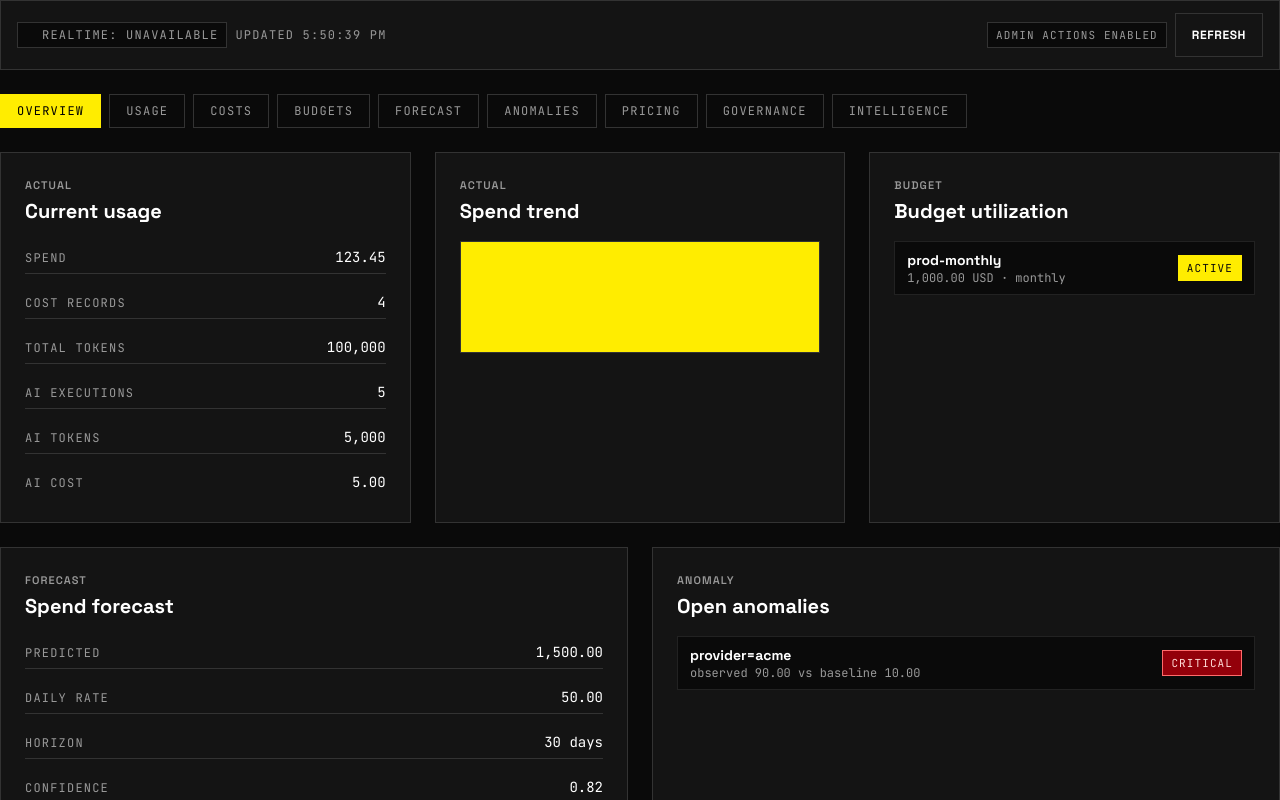
it: FinopsWorkspace (C1) › shows admin actions with billing:admin and labels forecast data
Expected: the text "Admin actions enabled" is shown, [987,22,1167,48]
What coordinates should you click on to do the following:
click the tab "Budgets"
I would click on:
 (324, 111)
Its box is [277,94,370,128].
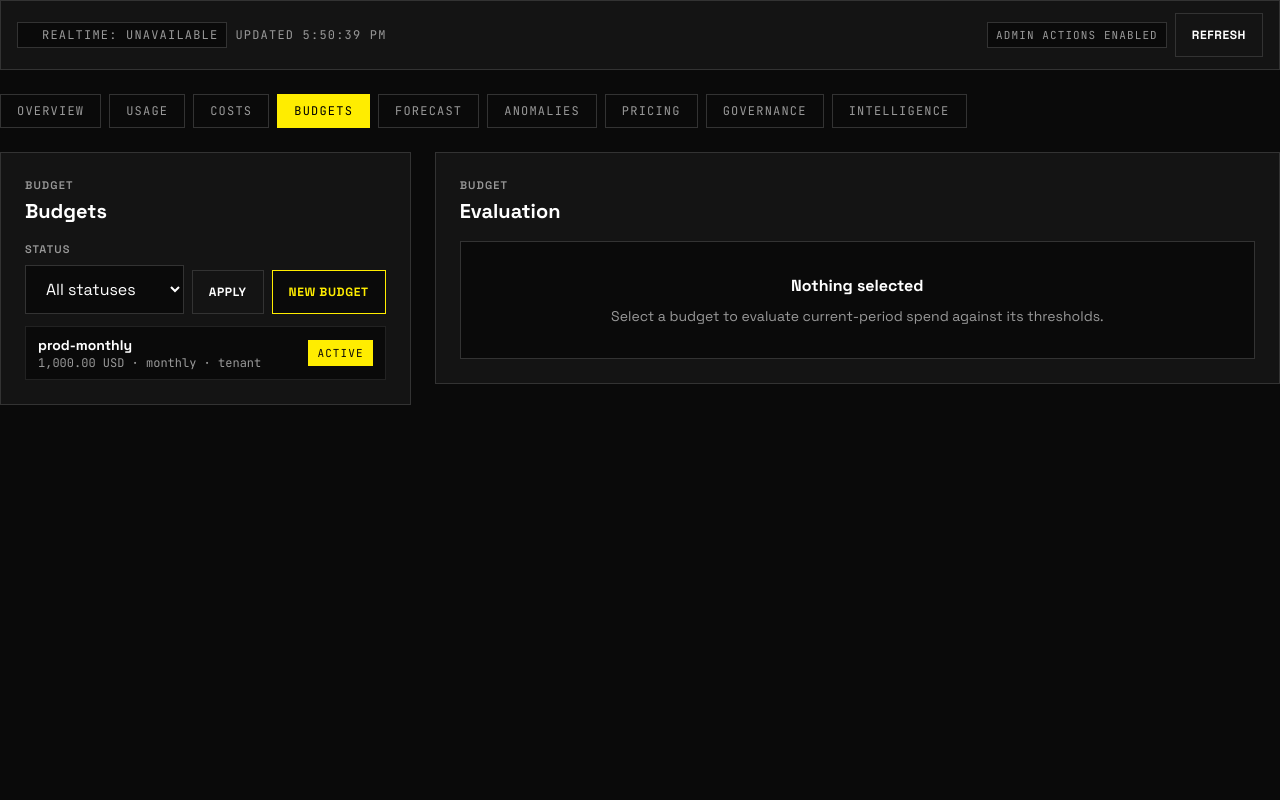
Now the text "New budget" is shown, box [288,284,369,300]
What coordinates should you click on to do the following:
click the tab "Forecast"
I would click on:
 (429, 111)
Its box is [378,94,479,128].
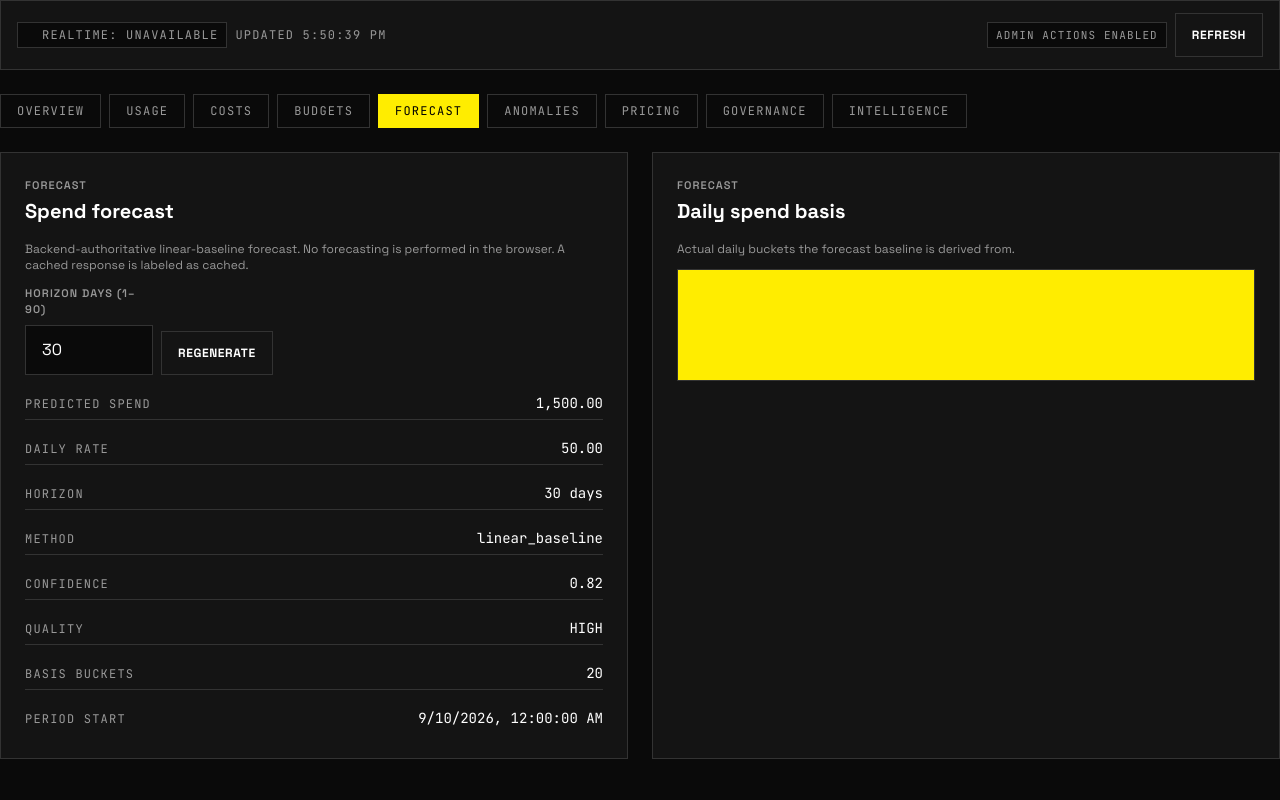
Now the text "1,500.00" is shown, box [536,393,603,413]
Now the text "linear_baseline" is shown, box [477,528,603,548]
